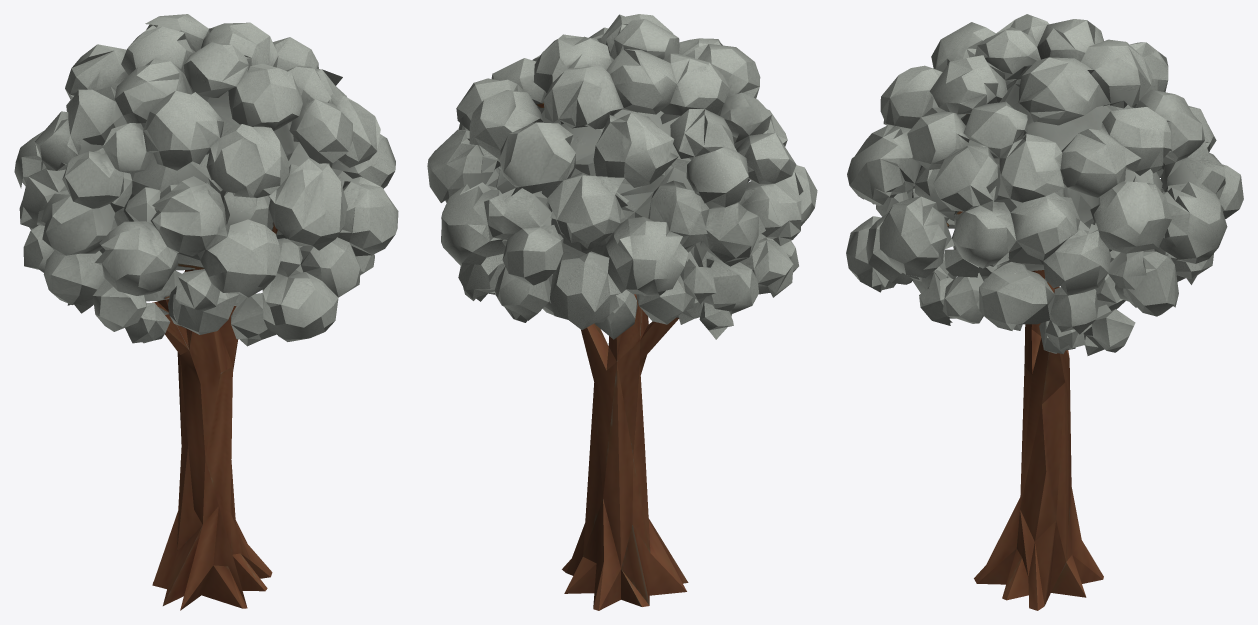
The model's file is maple.glb.
The picture shows the model from 3 angles, left to right: view 1: azimuth 30°, elevation 25°; view 2: azimuth 150°, elevation 25°; view 3: azimuth 270°, elevation 25°; orthographic projection.
Visible parts, largest first — view 1: geometry_0; view 2: geometry_0; view 3: geometry_0.
Part boxes in pixels (x1,y1,x2,y2): geometry_0: [14, 14, 398, 610]; geometry_0: [427, 14, 817, 610]; geometry_0: [846, 14, 1243, 610].
Bounding box in the file's own units: 3.45 × 5.37 × 3.53.
1 material, 1 textured.
